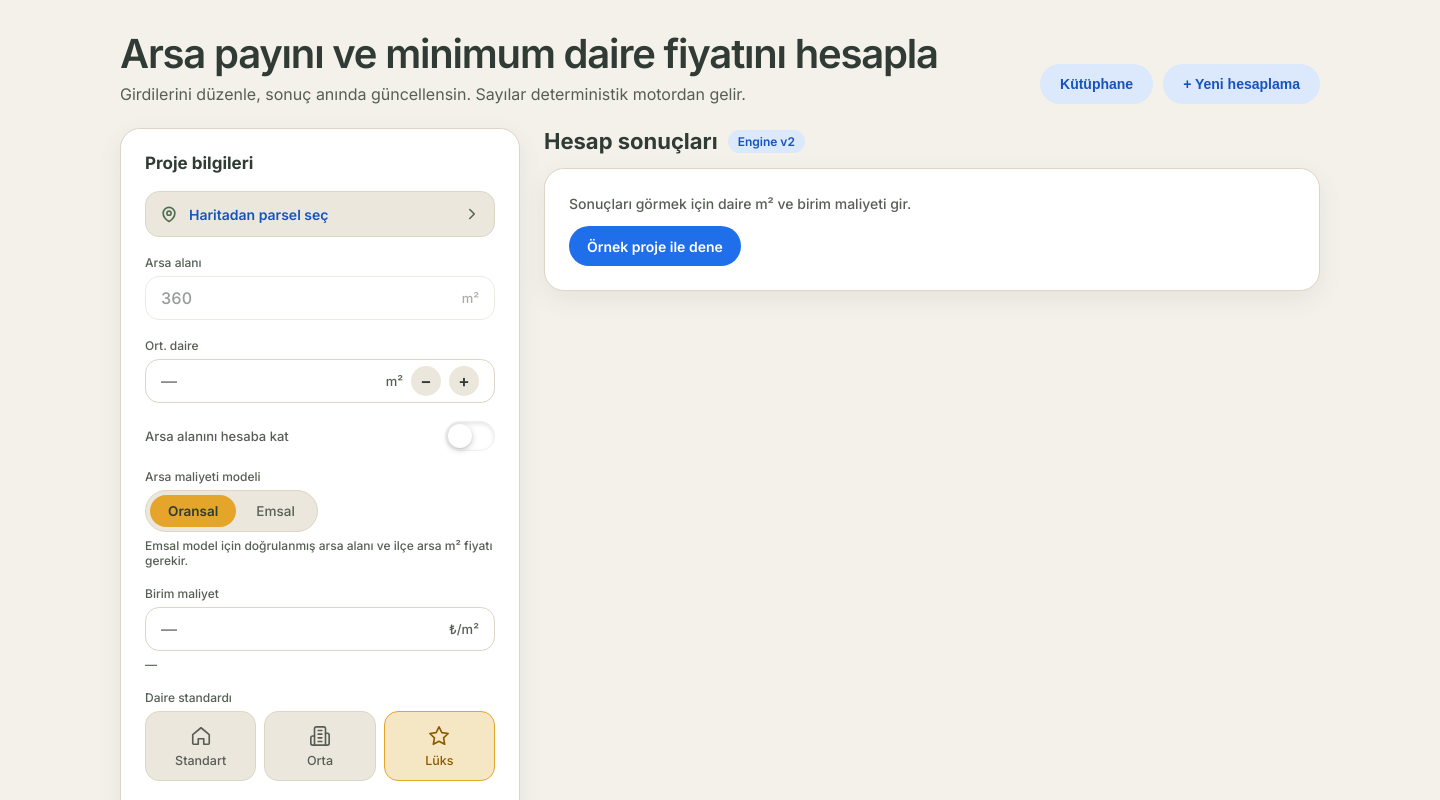
Test: /hesapla — boş durum + Örnek Proje ile Dene (masaüstü) › Örnek Proje ile Dene tıklanınca sonuç belirir ve buton kaybolur
Click the button "Örnek proje ile dene": click(655, 246) 569,226 -> 741,266
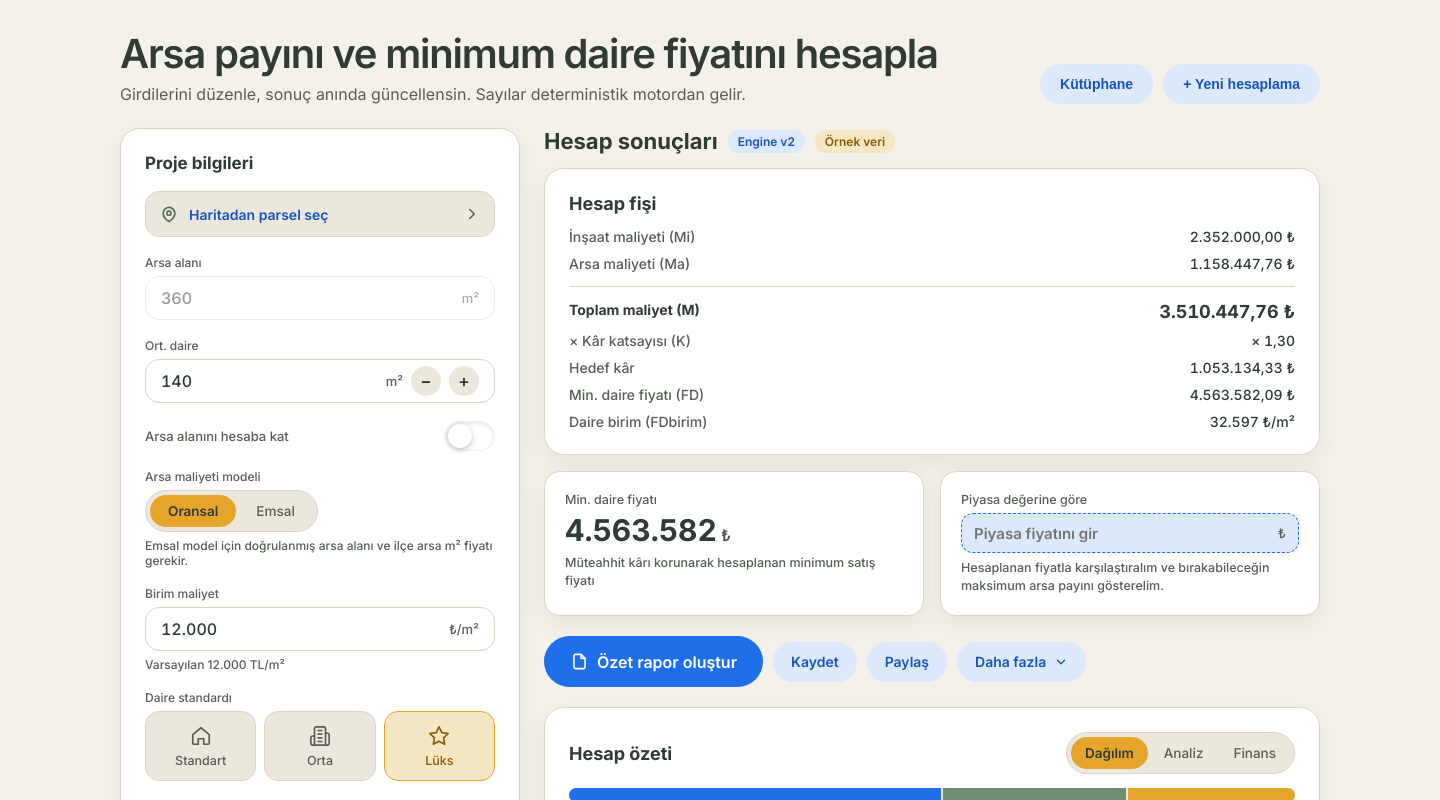
Result: the text "Min. daire fiyatı (FD)" is shown at 569,386 -> 704,403
Result: the button "Örnek proje ile dene" is gone
